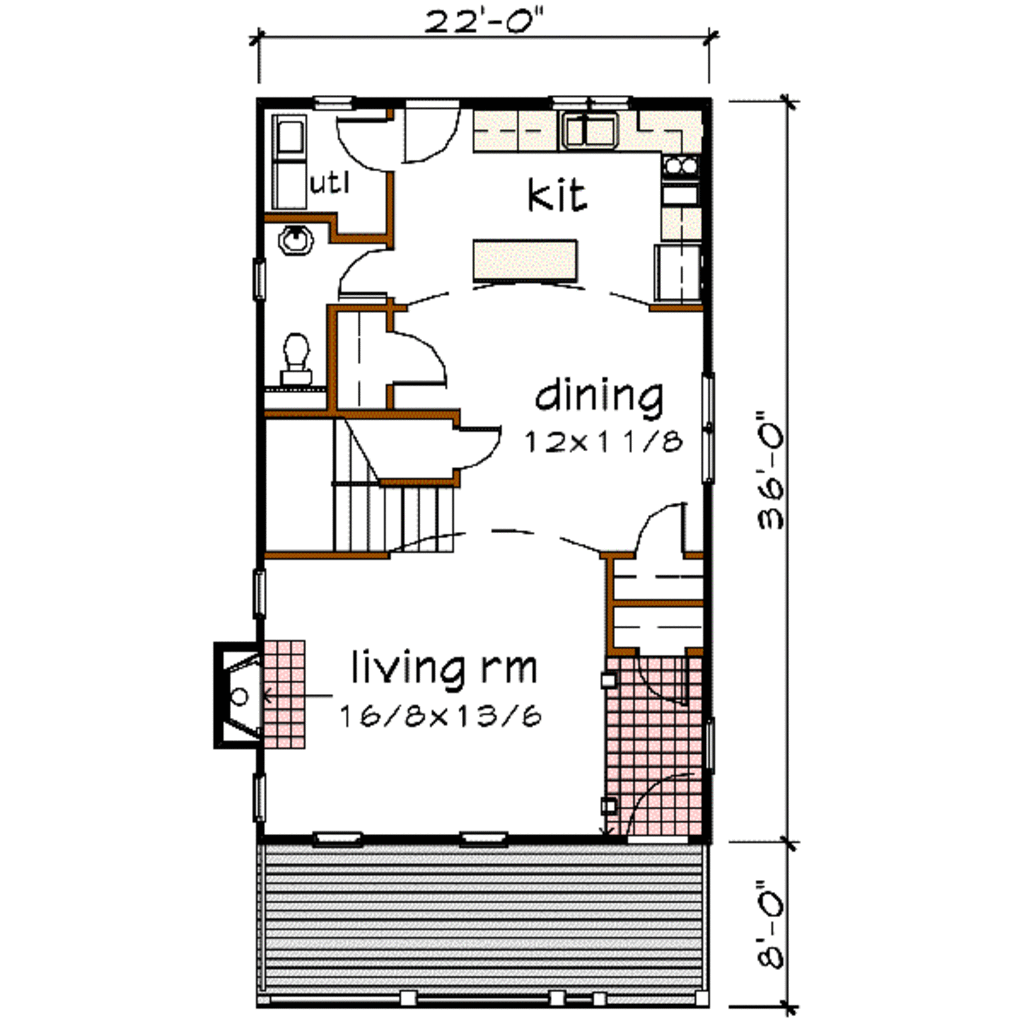door: (334, 109, 396, 173), (626, 657, 696, 708), (393, 328, 450, 387), (334, 247, 396, 298), (405, 103, 458, 162), (637, 497, 688, 555), (456, 427, 509, 470)
kitchen_bar: (659, 106, 702, 238)
large_sink: (278, 327, 323, 384)
small_sink: (275, 222, 320, 257)
stairs: (334, 485, 474, 552)
twin_sink: (567, 109, 625, 152)
